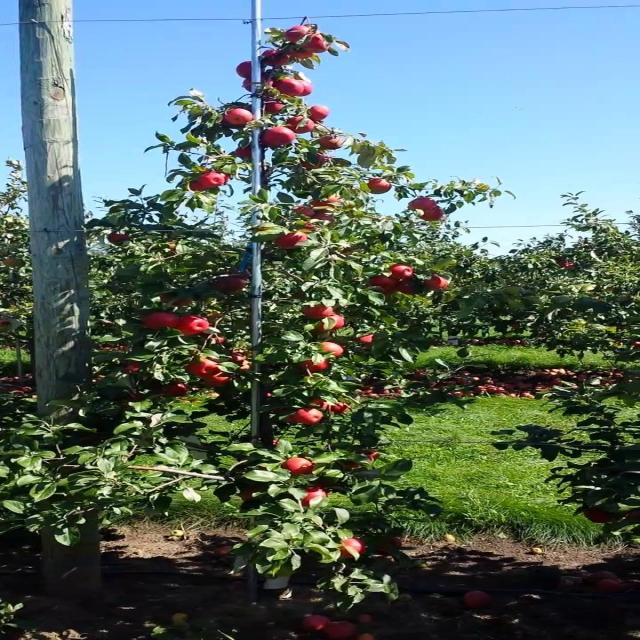apple: (369, 536, 405, 556), (141, 312, 178, 331), (177, 316, 212, 336), (262, 128, 297, 147), (227, 108, 256, 127), (369, 276, 396, 296), (340, 540, 368, 559), (348, 452, 379, 469), (291, 116, 318, 135), (284, 460, 316, 476), (305, 488, 329, 508), (262, 52, 292, 68), (198, 172, 228, 188), (248, 76, 276, 93), (191, 360, 220, 376), (319, 316, 348, 332), (220, 276, 249, 292), (298, 408, 325, 425), (305, 36, 332, 53), (212, 280, 249, 292), (234, 64, 261, 79), (284, 28, 311, 43), (582, 512, 615, 524), (276, 236, 308, 248), (348, 456, 377, 469), (348, 452, 370, 469), (163, 296, 194, 308), (276, 80, 299, 96), (319, 136, 343, 151), (305, 156, 329, 171), (205, 376, 233, 388), (397, 280, 418, 296), (369, 180, 391, 195), (426, 276, 448, 291), (262, 100, 284, 115), (305, 308, 332, 320), (291, 48, 316, 60), (305, 360, 329, 372), (412, 200, 437, 211), (326, 344, 347, 357), (170, 384, 192, 396), (390, 268, 414, 279), (234, 148, 256, 160), (312, 108, 332, 121), (241, 488, 261, 501), (298, 80, 313, 97), (120, 364, 142, 375), (426, 208, 444, 221), (312, 200, 340, 208), (312, 400, 331, 411), (205, 336, 228, 345), (127, 392, 144, 403), (234, 352, 249, 364), (312, 200, 332, 208), (362, 336, 377, 346), (333, 404, 348, 414), (191, 184, 208, 192), (319, 212, 334, 221), (625, 512, 639, 521), (298, 208, 313, 216), (326, 200, 341, 207), (305, 224, 318, 232), (113, 236, 130, 242), (369, 452, 379, 461), (241, 364, 251, 372)
